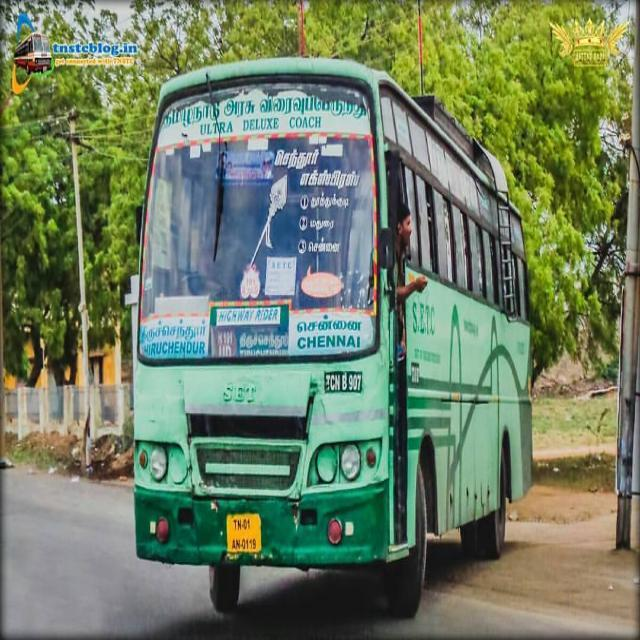Bus: (128, 52, 532, 624)
